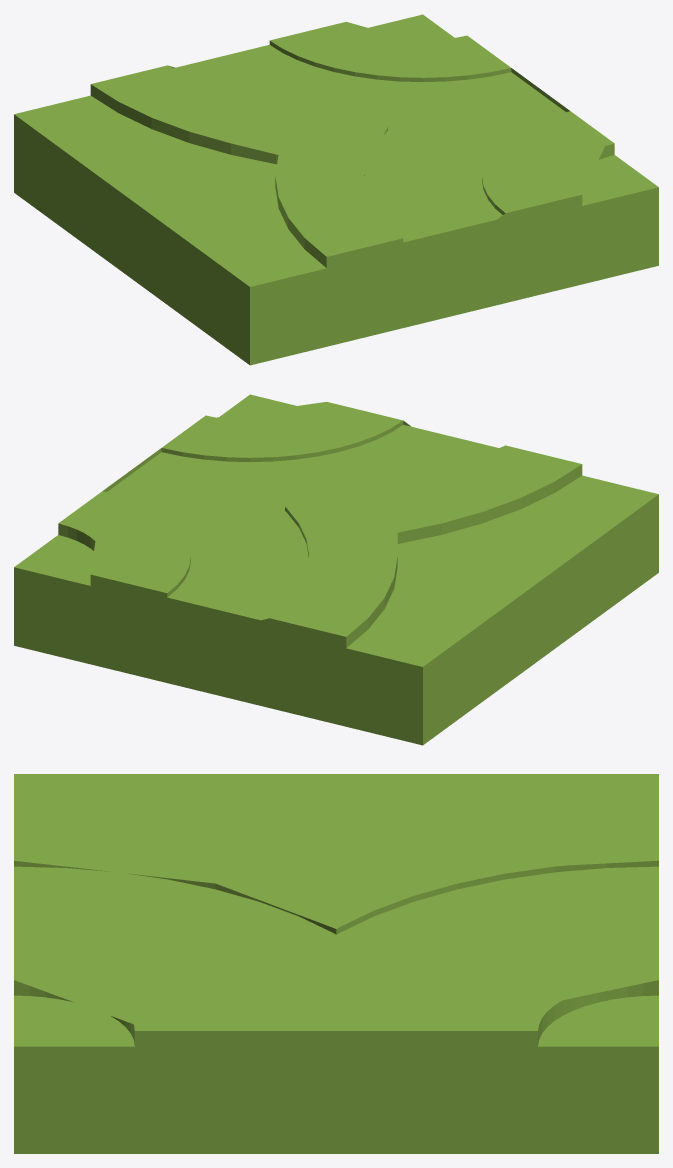
File: roadtile_148.glb
3 renders of one model, top to bottom at view 1: azimuth 30°, elevation 25°; view 2: azimuth 150°, elevation 25°; view 3: azimuth 270°, elevation 25°, orthographic. The views are drawn at different scales.
Visible parts, largest first — view 1: Mesh1 Group1 Model; view 2: Mesh1 Group1 Model; view 3: Mesh1 Group1 Model.
Boxes of the visible parts, left/top/right/bottom form: Mesh1 Group1 Model: left=14, top=14, right=658, bottom=365; Mesh1 Group1 Model: left=14, top=394, right=658, bottom=745; Mesh1 Group1 Model: left=14, top=774, right=658, bottom=1153.
Bounding box in the file's own units: 3 × 0.63 × 3.
